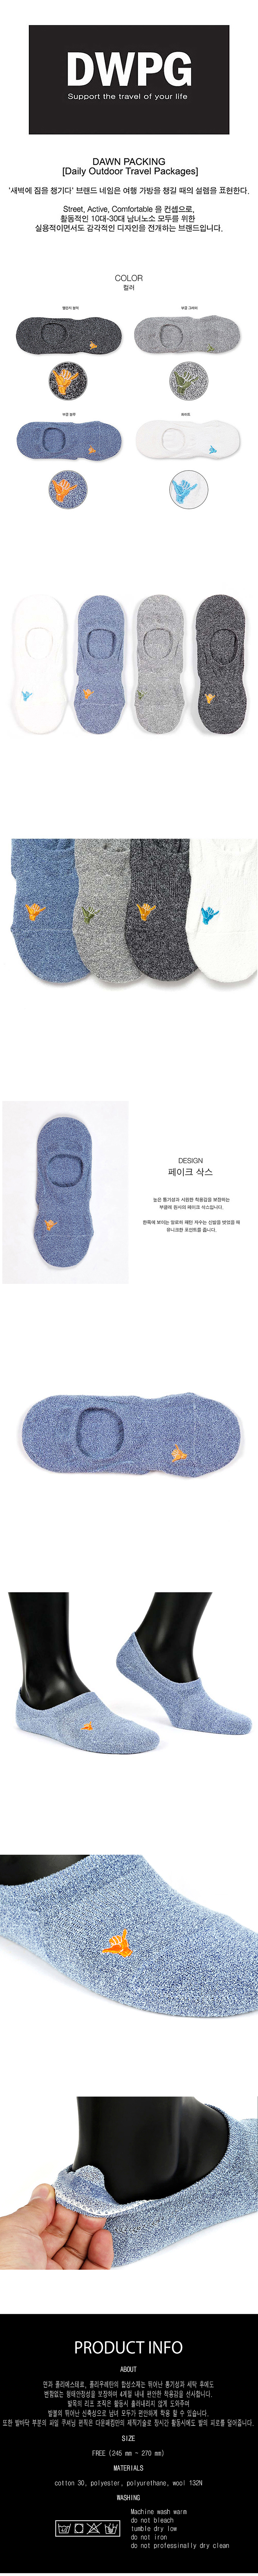do_not_bleach: (85, 2522, 102, 2535)
